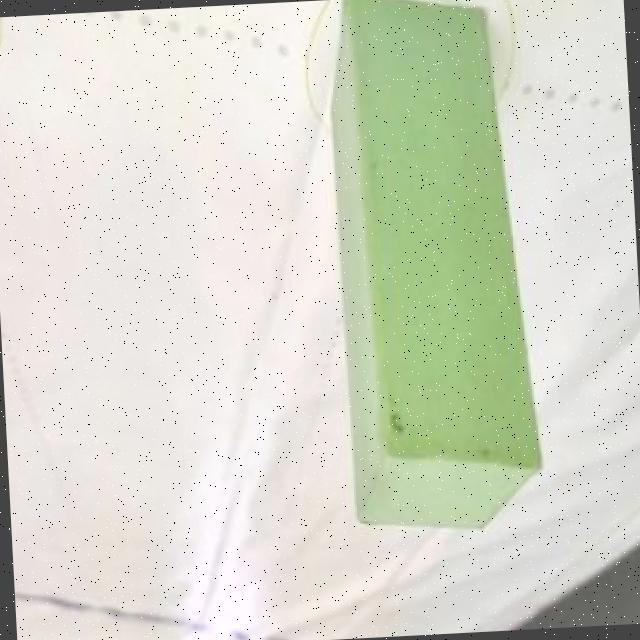greenbox: (321, 0, 547, 541)
